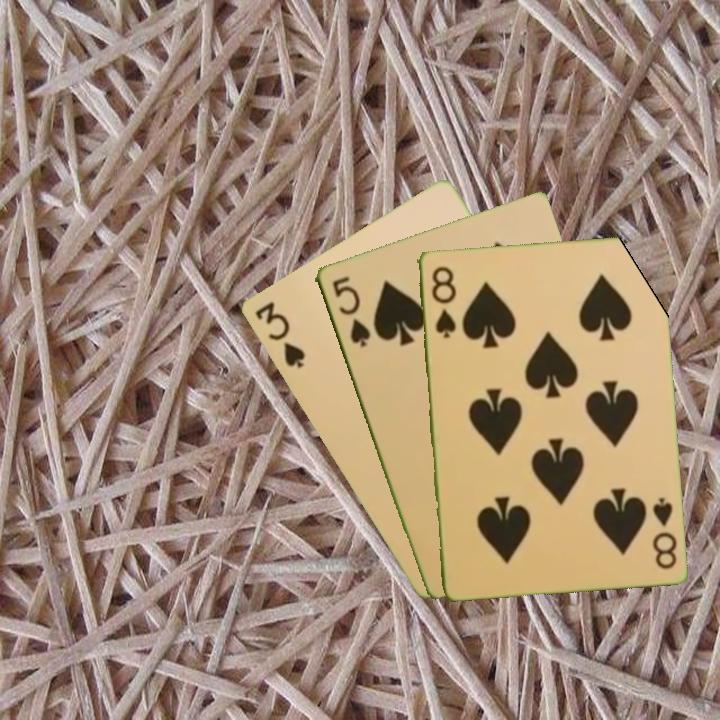3s: (250, 298, 308, 371)
5s: (328, 272, 373, 350)
8s: (648, 493, 680, 572), (428, 262, 459, 341)
